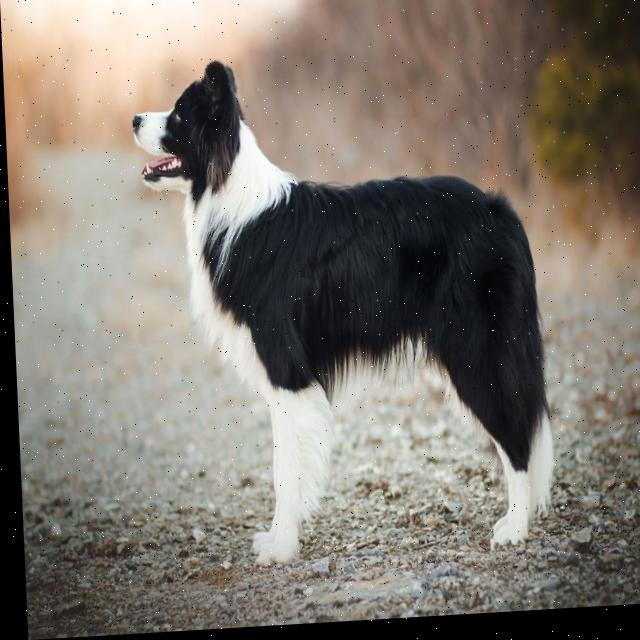BORDER_COLLIE: (111, 27, 579, 596)
